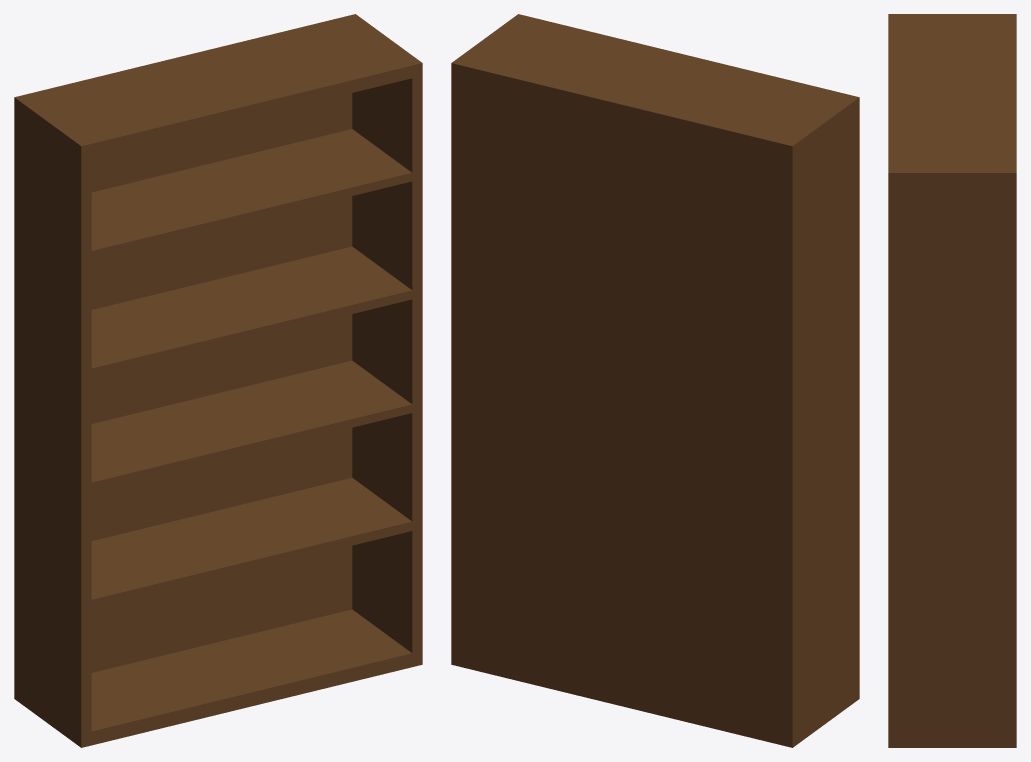
Rendered from Bookshelf.fbx.
3 views of the same model, side by side, from view 1: azimuth 30°, elevation 25°; view 2: azimuth 150°, elevation 25°; view 3: azimuth 270°, elevation 25° (orthographic). The views are drawn at different scales.
Visible parts, largest first — view 1: Bookshelf; view 2: Bookshelf; view 3: Bookshelf.
Boxes of the visible parts, x1,y1,x2,y2 form: Bookshelf: (14, 14, 422, 747); Bookshelf: (451, 14, 859, 747); Bookshelf: (888, 14, 1016, 747).
Bounding box in the file's own units: 1.23 × 2.08 × 0.4192.
